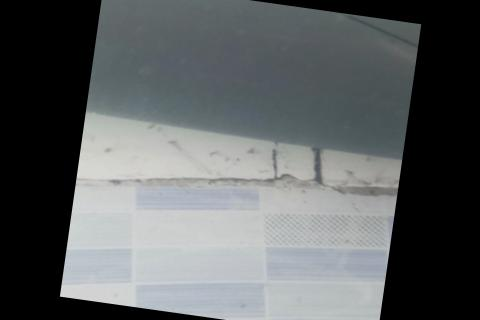keretakan: (184, 0, 419, 47)
